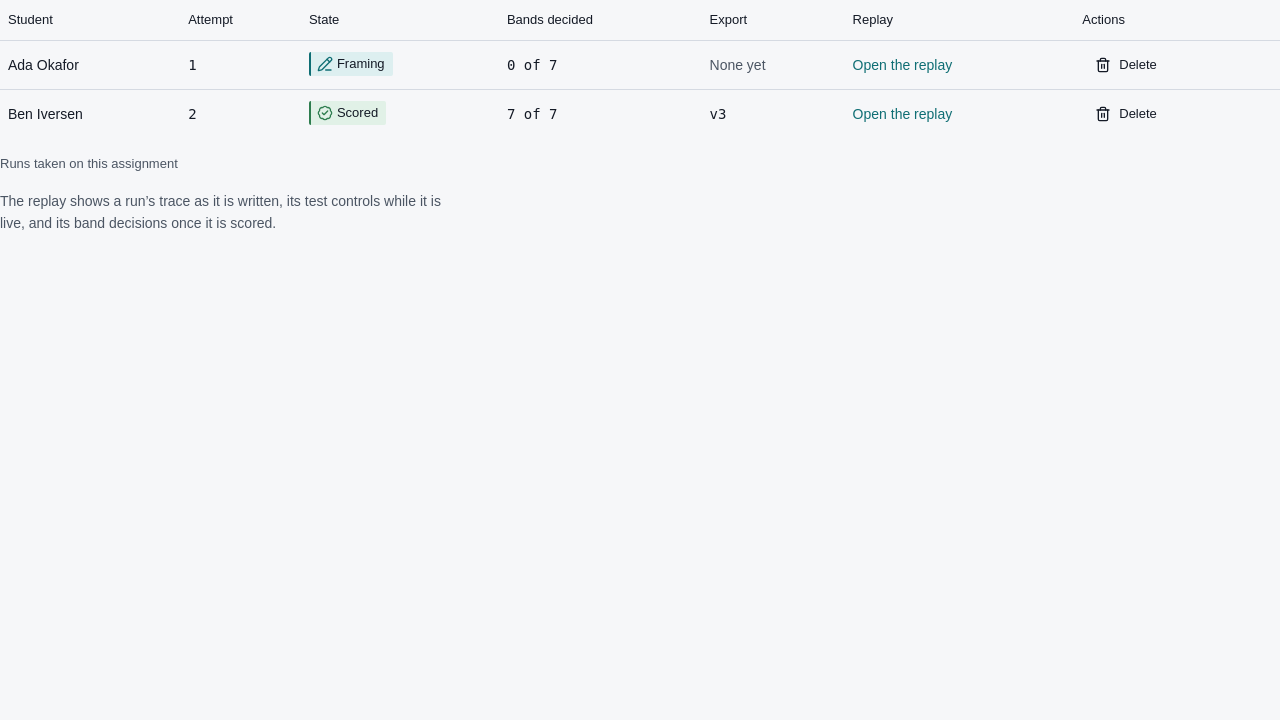
Test case: AssignmentRunsTable (UI-032) › asks before it removes anything, and names what removal costs
The image size is (1280, 720).
Click the button "Delete" in the row of "Ada Okafor" at point(1126, 64), box [1082,48,1170,80]
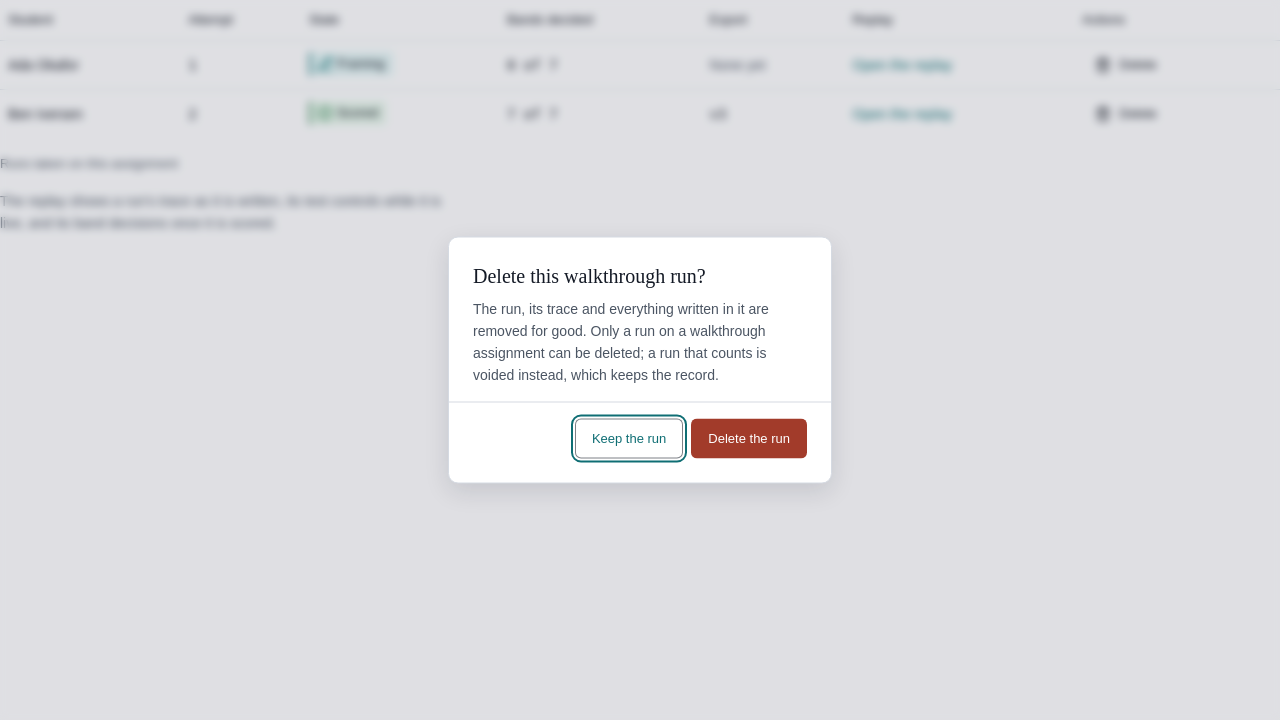
Check: the dialog shows "Delete this walkthrough run?", box [473,264,706,286]
Check: the dialog shows "The run, its trace and everything written in it are removed for good. Only a run on a walkthrough assignment can be deleted; a run that counts is voided instead", box [473,300,769,382]
